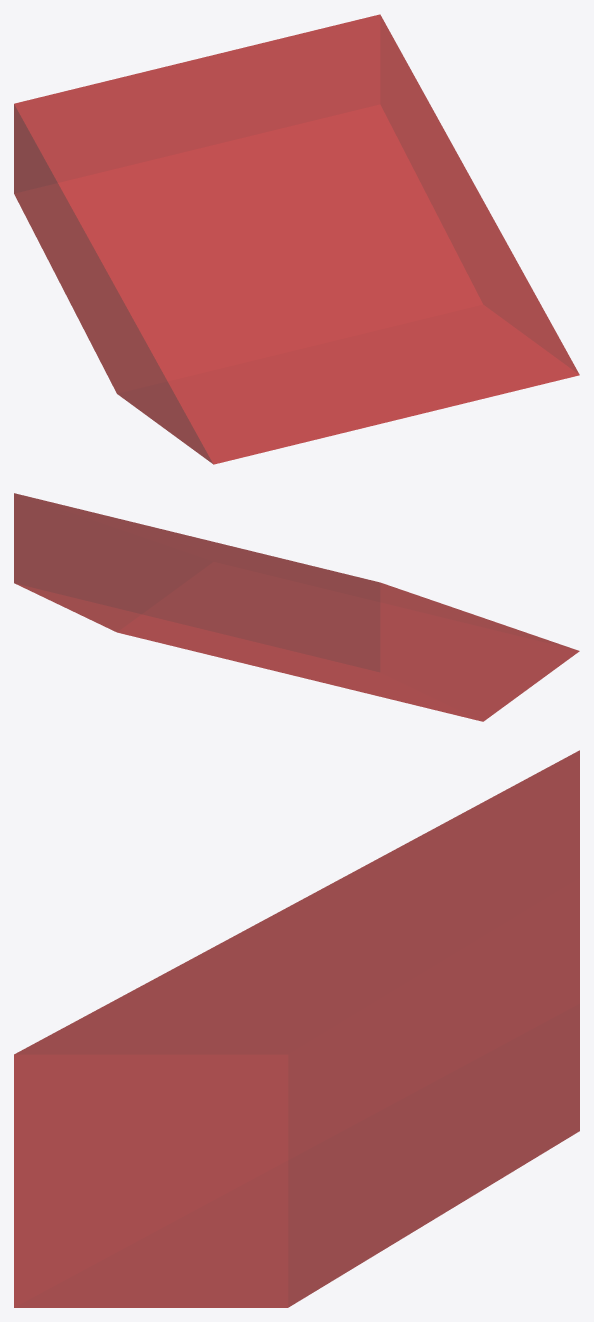
File: SM_Bld_Step_02_Insert_01_Collision.fbx
3 views of the same model, one above another, from view 1: azimuth 30°, elevation 25°; view 2: azimuth 150°, elevation 25°; view 3: azimuth 270°, elevation 25° (orthographic). The views are drawn at different scales.
Parts seen in each view (by area): view 1: SM_Bld_Step_02_Insert_01_Collision; view 2: SM_Bld_Step_02_Insert_01_Collision; view 3: SM_Bld_Step_02_Insert_01_Collision.
Boxes of the visible parts, box(x1,y1,x2,y2) form: SM_Bld_Step_02_Insert_01_Collision: box(14, 14, 579, 464); SM_Bld_Step_02_Insert_01_Collision: box(14, 493, 579, 721); SM_Bld_Step_02_Insert_01_Collision: box(14, 750, 579, 1307).
Bounding box in the file's own units: 250 × 140 × 236.
